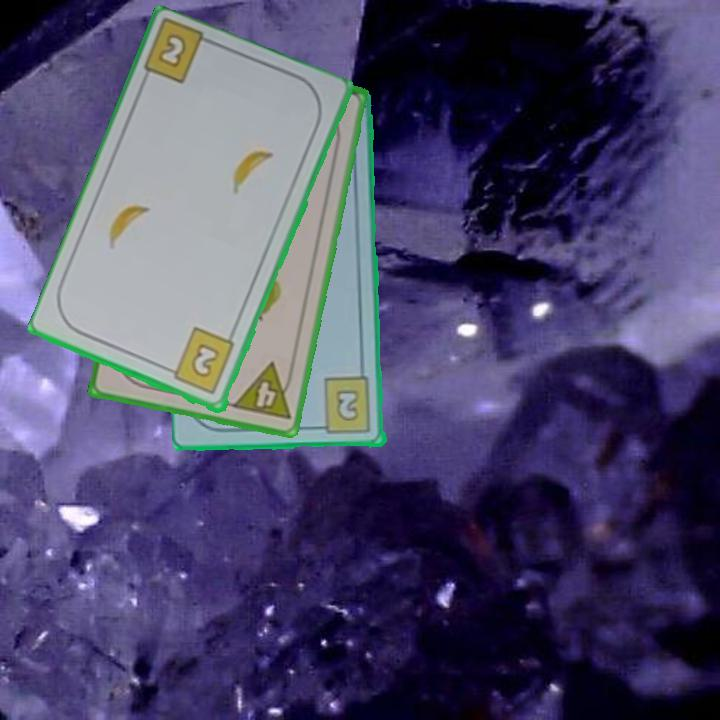2b: (162, 325, 238, 398), (313, 375, 374, 437), (154, 30, 190, 72)
4p: (228, 359, 298, 424)
